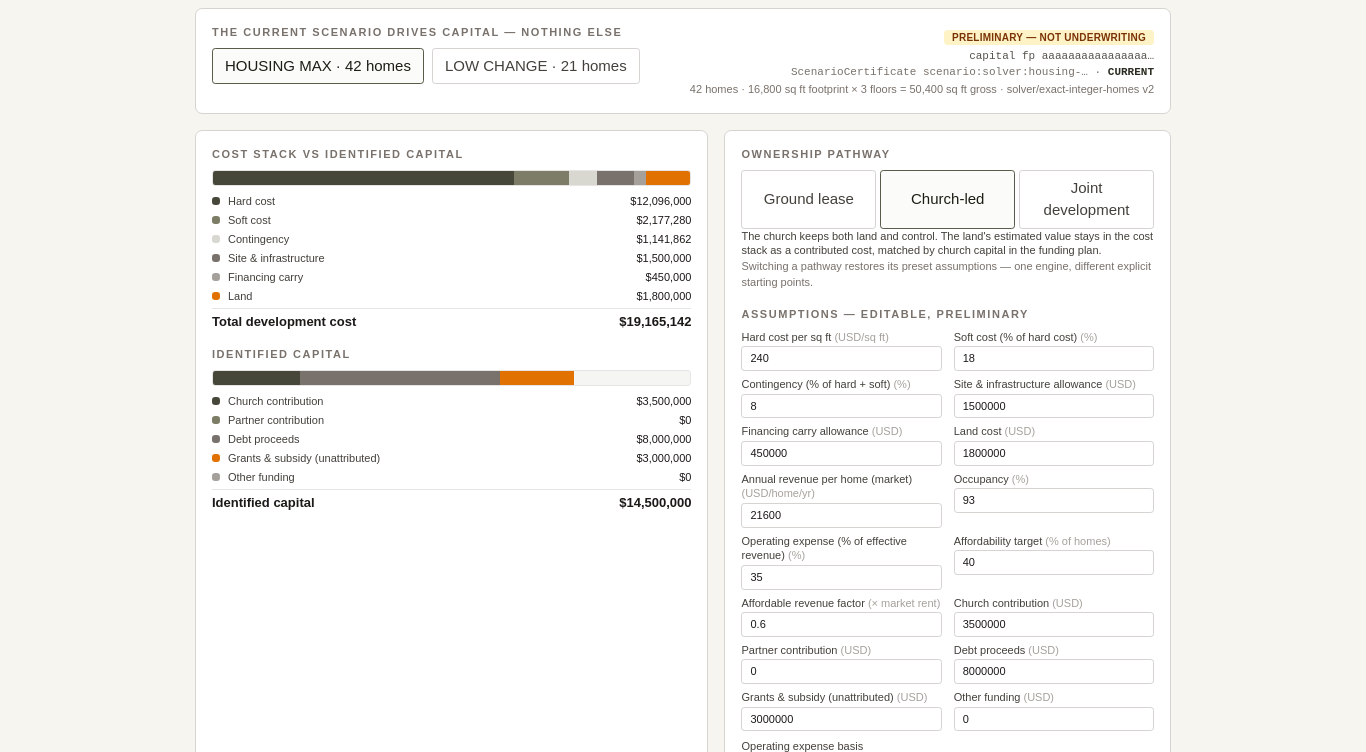
CapitalExplorer — one surface over server truth › switching the ownership pathway re-POSTs to the same trusted route (never computes locally)
The width and height of the screenshot is (1366, 752).
Check: the text "capital fp aaaaaaaaaaaaaaaa…" is shown, box [969, 50, 1154, 62]
Click the button with test id "pathway-ground-lease": x=809, y=199 [742, 170, 876, 229]
(page scrolled)
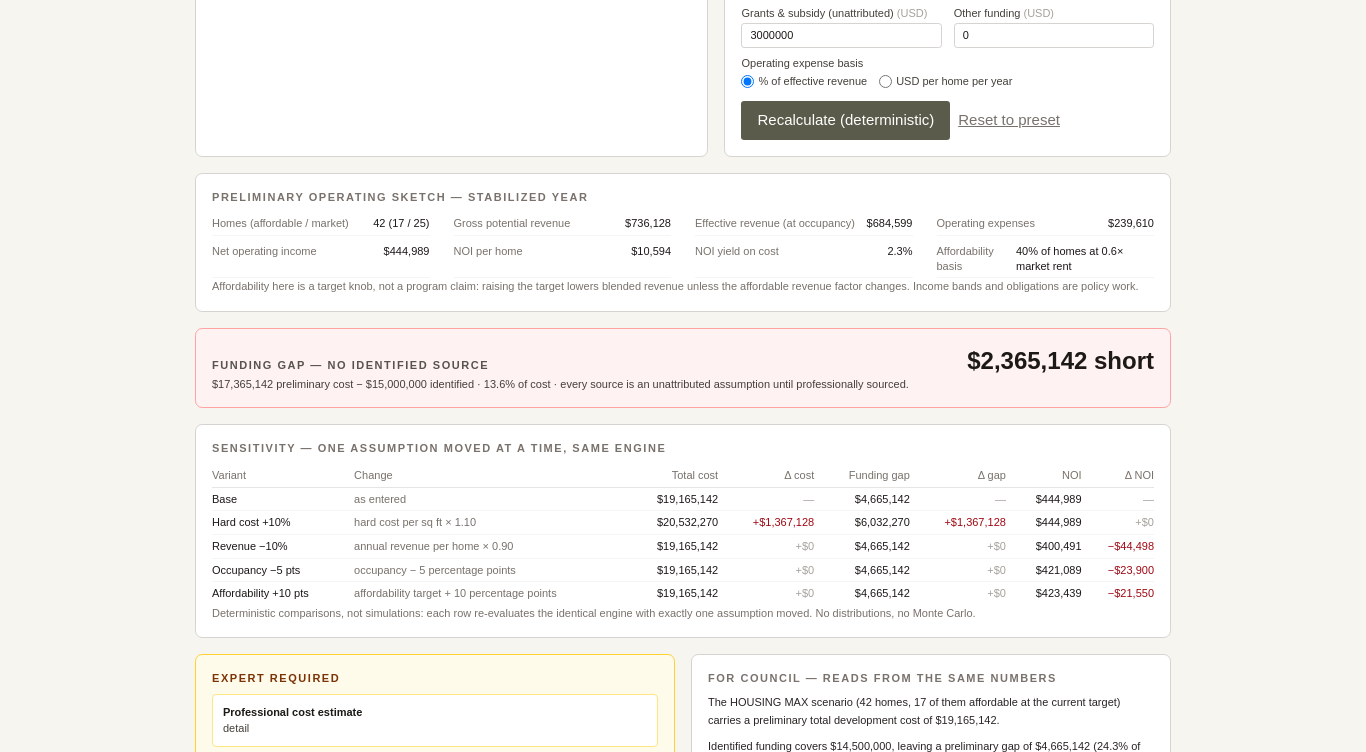
Check: the element with test id "capital-gap" shows "$2,365,142", box [967, 347, 1154, 374]
